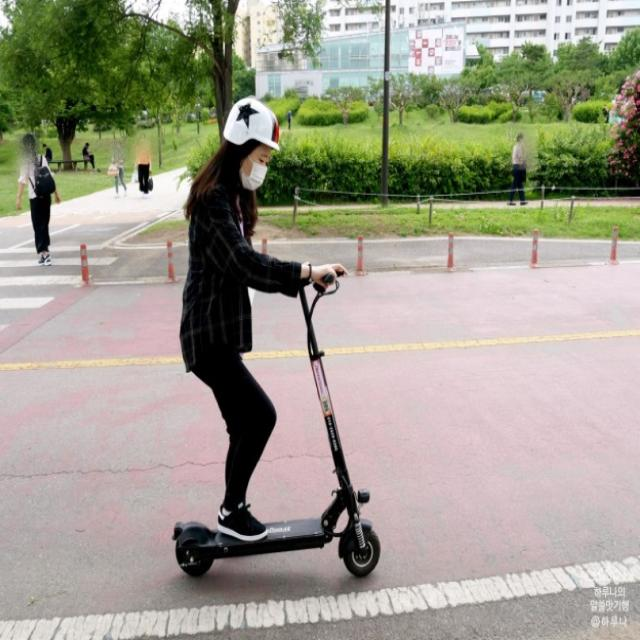helmet: (105, 44, 447, 595)
